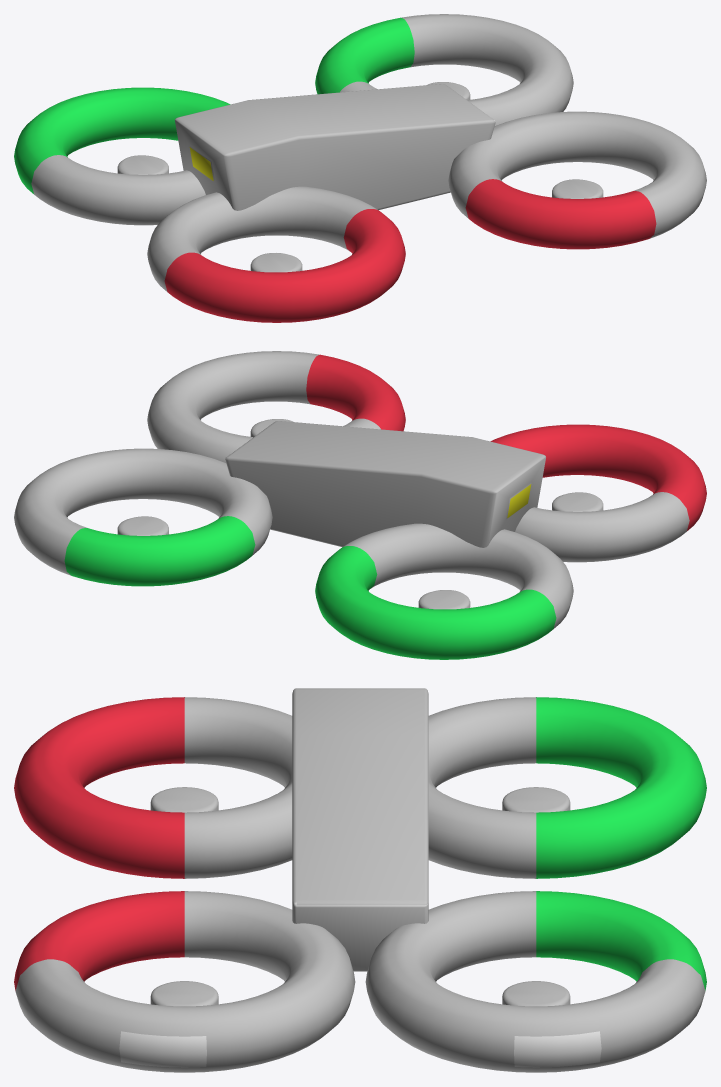
Rendered from DroneBlack1.fbx.
3 views of the same model, one above another, from view 1: azimuth 30°, elevation 25°; view 2: azimuth 150°, elevation 25°; view 3: azimuth 270°, elevation 25° (orthographic). The views are drawn at different scales.
Visible parts, largest first — view 1: Drone; view 2: Drone; view 3: Drone.
Part boxes in pixels (box(x1,y1,x2,y2)): Drone: box(14, 14, 706, 322); Drone: box(14, 351, 706, 659); Drone: box(14, 688, 706, 1072).
Bounding box in the file's own units: 508 × 586 × 135.
